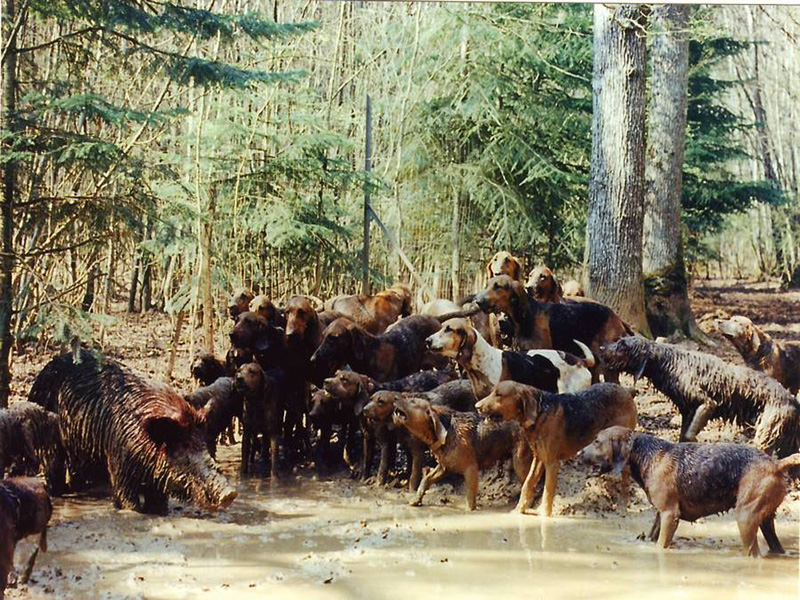cane da caccia: (580, 426, 799, 543), (601, 329, 795, 455), (480, 377, 641, 511), (425, 314, 597, 389), (479, 272, 631, 355), (380, 390, 469, 503), (235, 360, 295, 485), (315, 308, 412, 376), (712, 310, 797, 386), (1, 396, 59, 475), (361, 391, 396, 495), (228, 310, 287, 361), (321, 365, 373, 409), (524, 261, 575, 304), (282, 294, 319, 350), (187, 347, 233, 391)
cinghiale: (24, 339, 237, 525)
